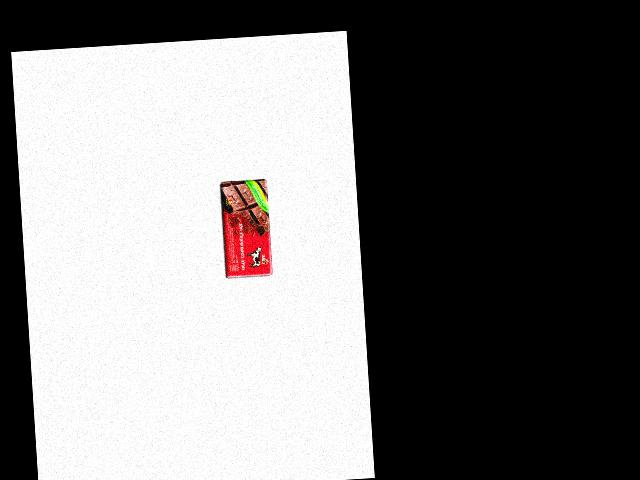chocolate: (215, 178, 274, 281)
